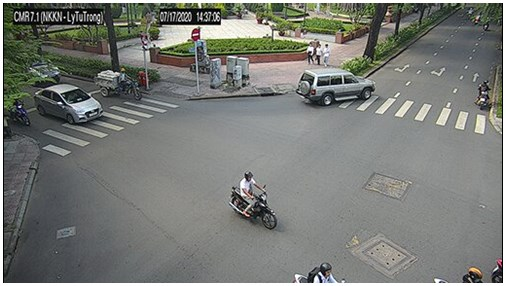di_bo: (305, 42, 315, 66), (315, 44, 323, 66), (323, 44, 330, 68)
xe_ba_gac: (95, 67, 142, 102)
xe_hoi: (295, 69, 376, 107), (33, 83, 104, 125)
xe_may: (228, 170, 278, 230), (475, 79, 491, 111)
